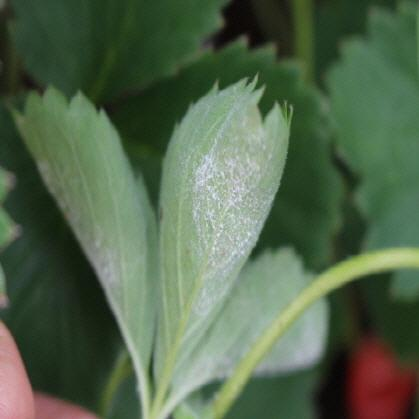Powdery Mildew Leaf: (150, 69, 293, 398), (8, 82, 156, 393), (160, 244, 333, 418)
